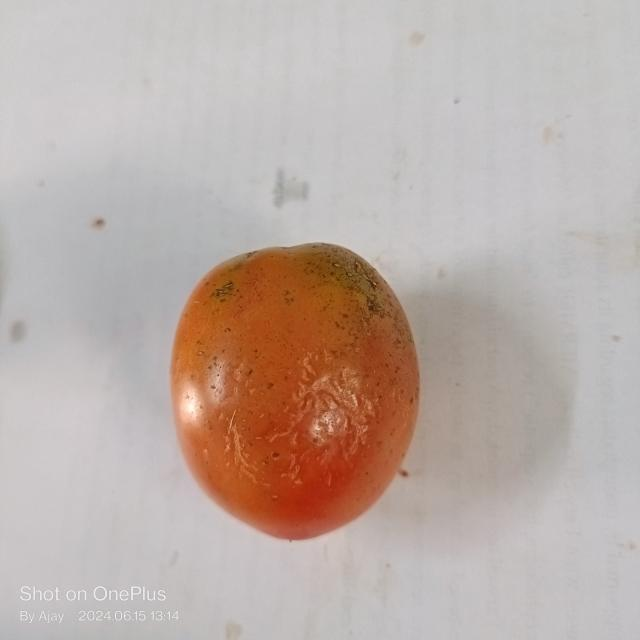Bacterial_Spot: (307, 247, 387, 316), (208, 268, 242, 303)
